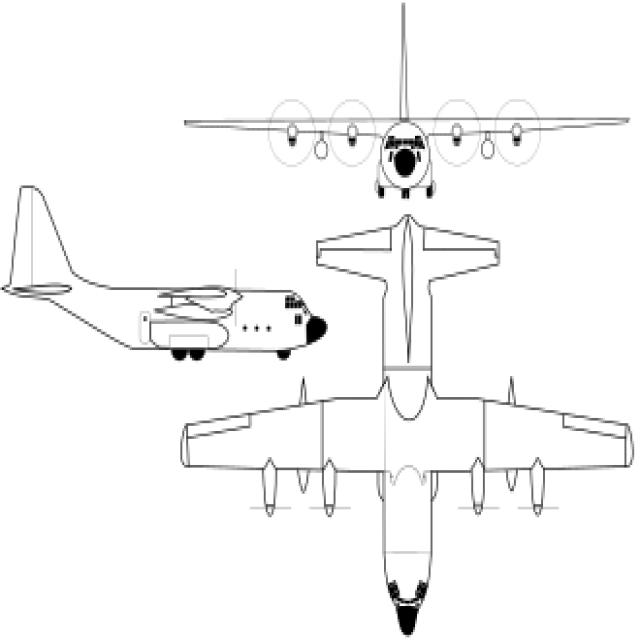C130: (137, 200, 640, 639), (168, 0, 630, 226), (0, 144, 341, 382)
